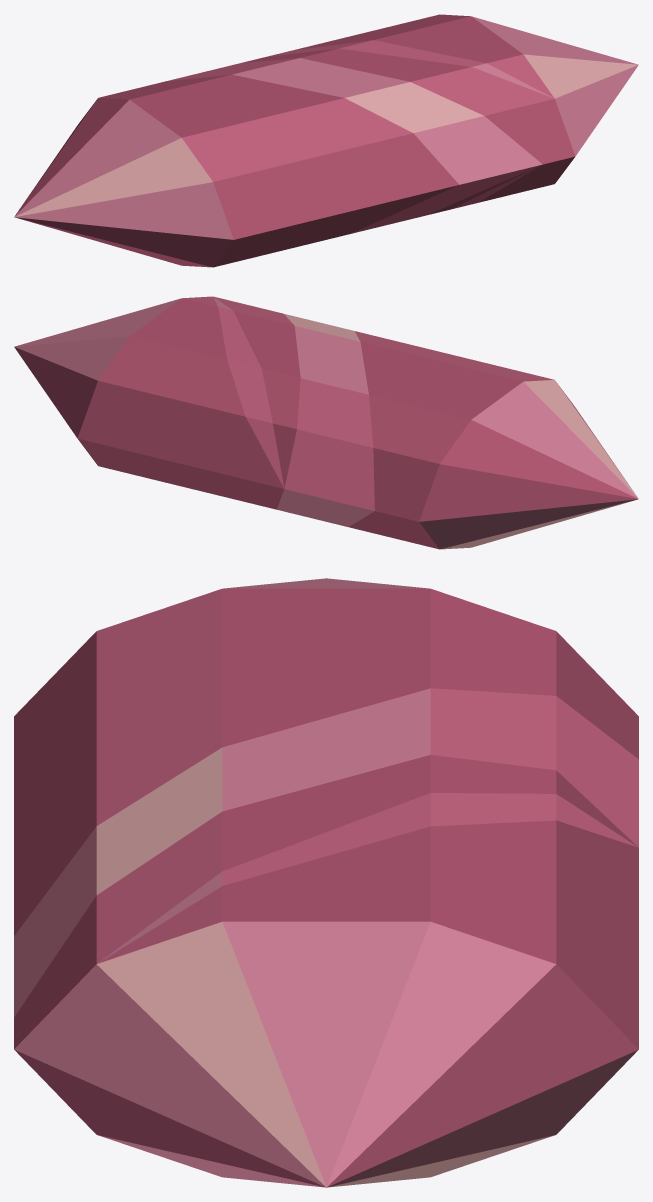
Rendered from Jewel.fbx.
3 views of the same model, one above another, from view 1: azimuth 30°, elevation 25°; view 2: azimuth 150°, elevation 25°; view 3: azimuth 270°, elevation 25° (orthographic). The views are drawn at different scales.
Parts seen in each view (by area): view 1: Jewel; view 2: Jewel; view 3: Jewel.
Boxes of the visible parts, x1,y1,x2,y2 form: Jewel: (14, 14, 638, 267); Jewel: (14, 296, 638, 549); Jewel: (14, 578, 638, 1187).
Bounding box in the file's own units: 36.64 × 7.17 × 15.88.
1 material, 1 textured.
